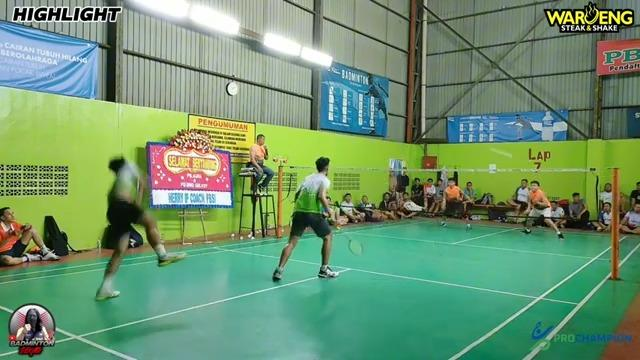Shuttlecock: (492, 148, 516, 162)
